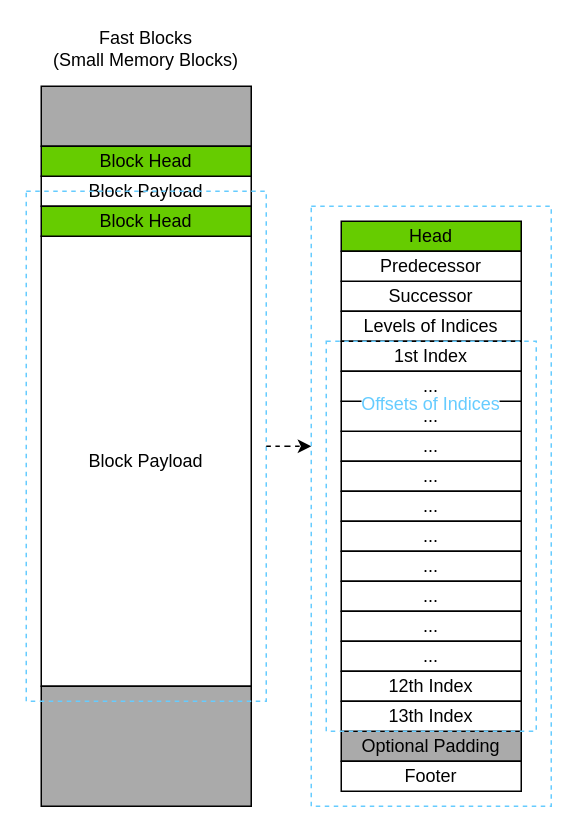
Some shapes in this 578 by 833 pixel diagram are drawn without their labels. The box of each missing label's shape, as (x1, y1, x2, y2) in pixels:
Fast Blocks: (40, 685, 251, 806)
Global Meta Data: (40, 85, 251, 146)
